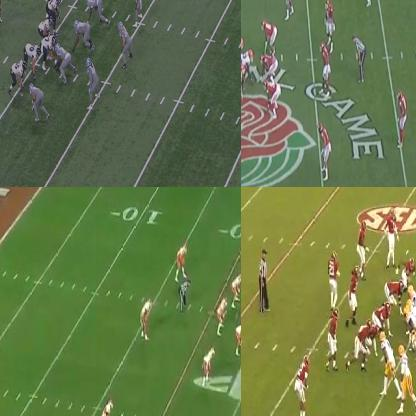CENTER: (241, 49, 254, 83), (47, 32, 57, 58), (409, 285, 415, 313)
DB: (294, 353, 311, 415), (318, 124, 330, 179), (356, 222, 368, 277), (397, 90, 407, 148), (140, 298, 153, 342), (330, 250, 338, 306), (325, 0, 334, 43), (177, 243, 187, 280), (99, 395, 114, 415)
LB: (116, 20, 132, 66), (202, 346, 215, 388), (86, 60, 98, 105), (216, 295, 228, 337), (348, 263, 357, 316), (321, 43, 330, 92), (130, 0, 146, 26), (233, 269, 240, 307), (282, 0, 295, 15)
SKILL: (398, 344, 415, 415), (381, 332, 397, 394), (351, 320, 369, 368), (326, 305, 338, 368), (385, 206, 396, 266), (401, 257, 415, 279), (0, 0, 5, 27)
